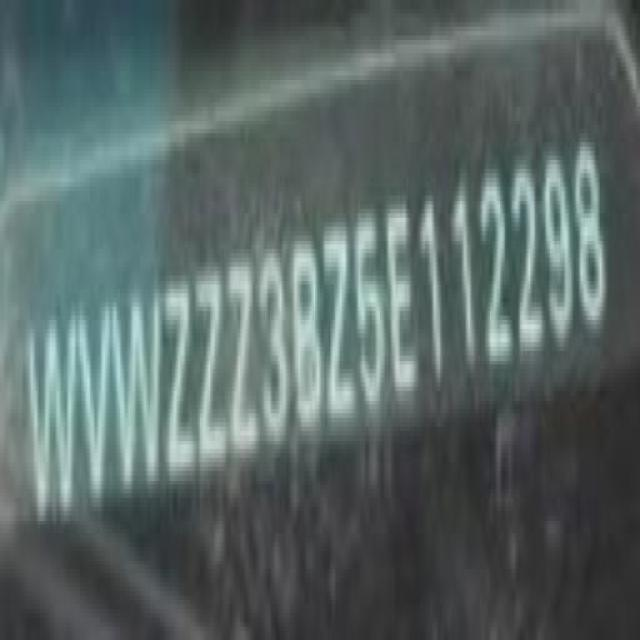1: (453, 168, 477, 384), (421, 180, 442, 400)
2: (513, 152, 543, 365), (483, 165, 513, 375)
5: (356, 197, 386, 420)
8: (259, 238, 289, 451), (575, 137, 605, 330)
9: (546, 143, 576, 354)
B: (290, 228, 323, 444)
E: (386, 183, 414, 403)
V: (78, 304, 111, 514)
W: (111, 293, 163, 494), (27, 320, 78, 516)
Z: (322, 226, 356, 420), (164, 277, 196, 479), (227, 249, 256, 466), (197, 260, 225, 476)
